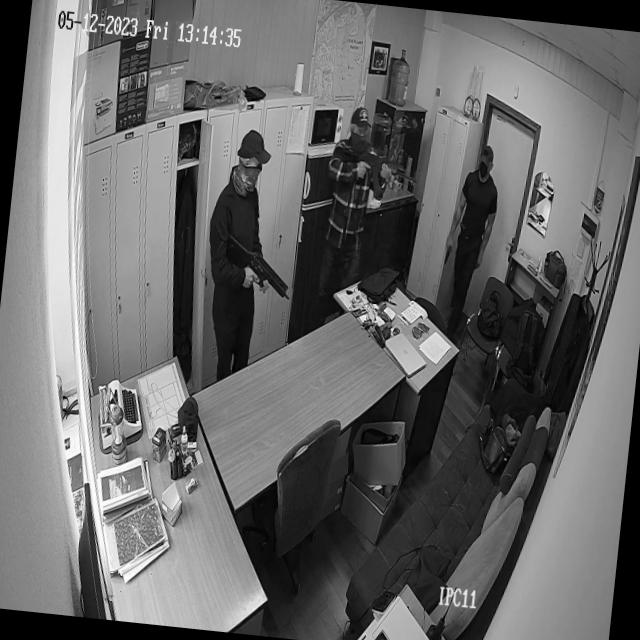gun: (219, 228, 297, 300), (352, 147, 419, 195), (442, 241, 453, 268)
person with a gun: (194, 126, 284, 372), (318, 106, 384, 292), (438, 142, 500, 332)
